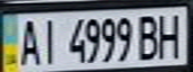4: (63, 13, 84, 64)
9: (81, 15, 103, 64), (115, 14, 136, 62), (100, 15, 118, 63)
A: (15, 16, 42, 66)
B: (136, 11, 163, 61)
H: (154, 10, 187, 60)
I: (36, 15, 60, 65)
